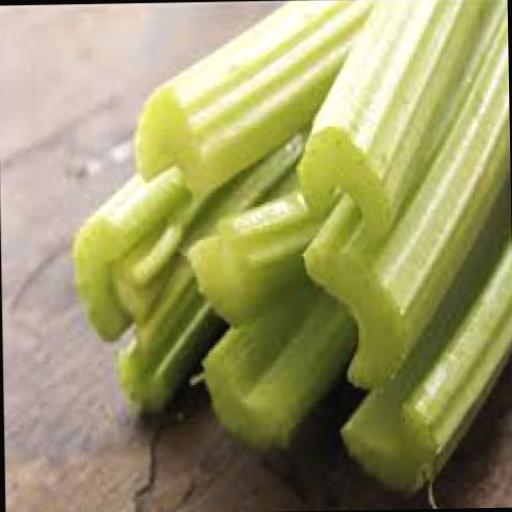biodegradable: (293, 0, 512, 387), (330, 151, 512, 494), (104, 128, 313, 409), (288, 0, 510, 227), (129, 0, 372, 197), (194, 264, 364, 450), (175, 191, 343, 321), (68, 170, 190, 341)
